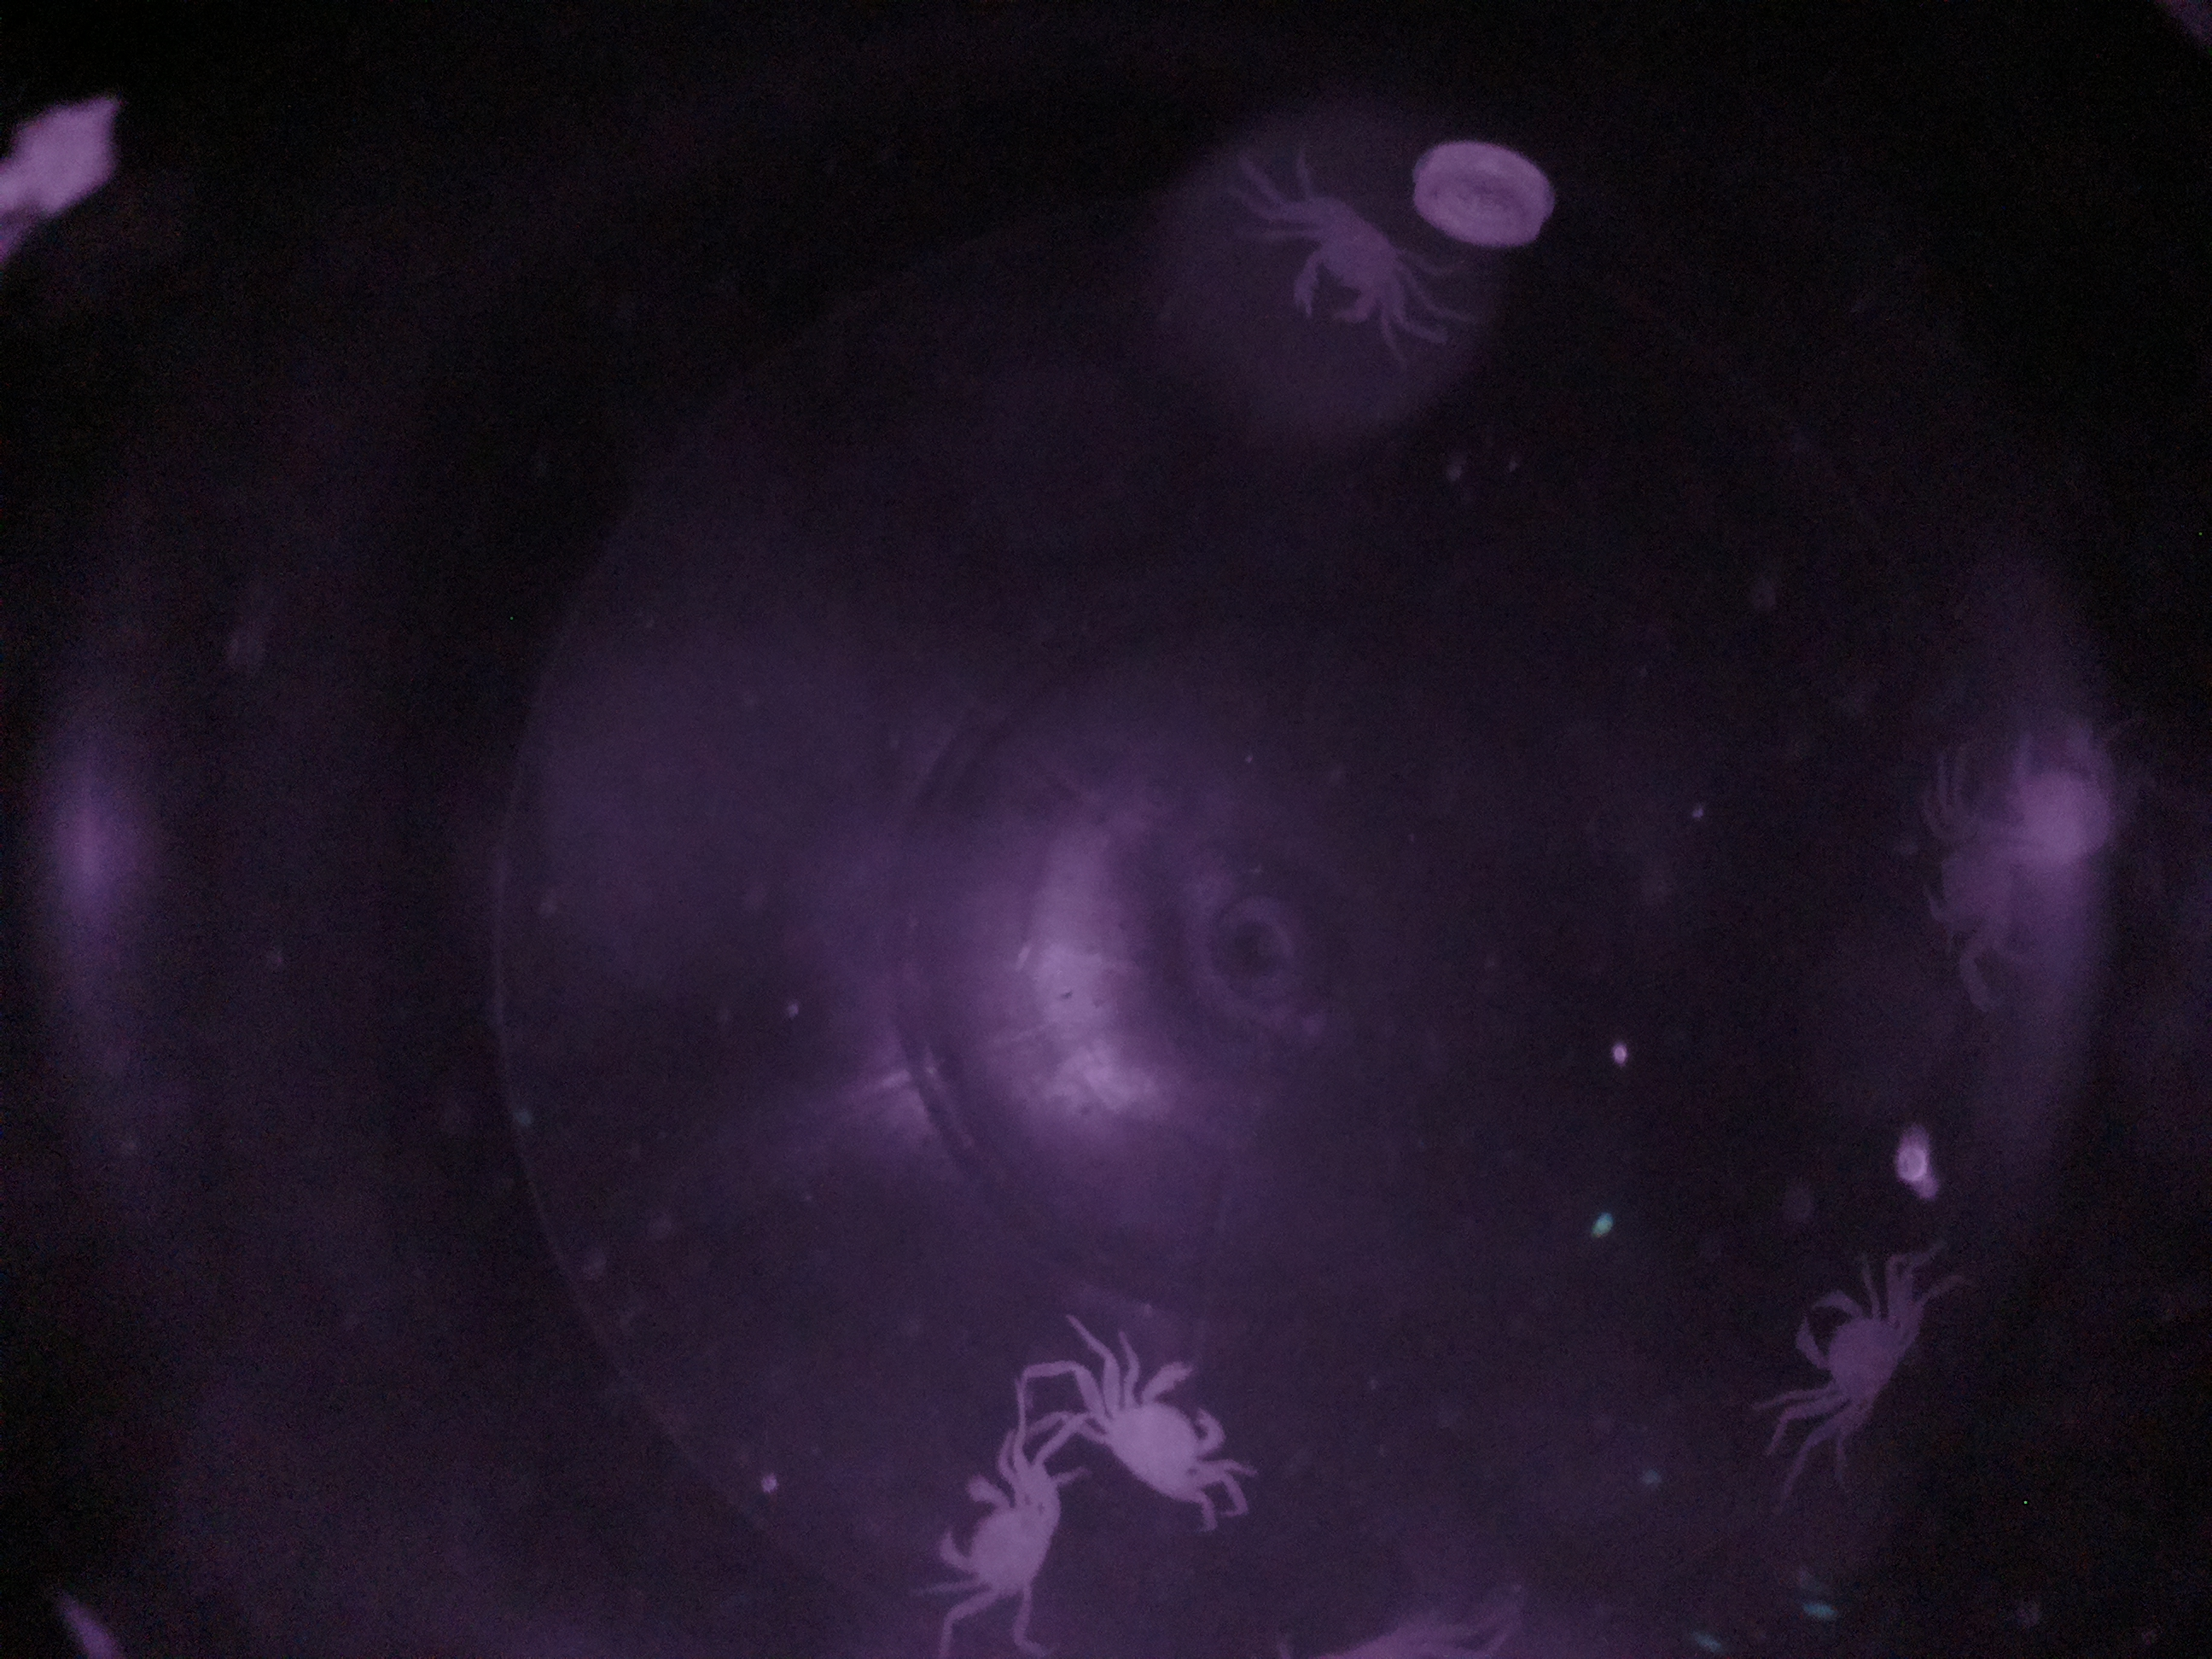Crab: (1078, 1333, 1266, 1558), (1263, 164, 1433, 362), (1768, 1260, 1940, 1443), (914, 1450, 1068, 1643)
